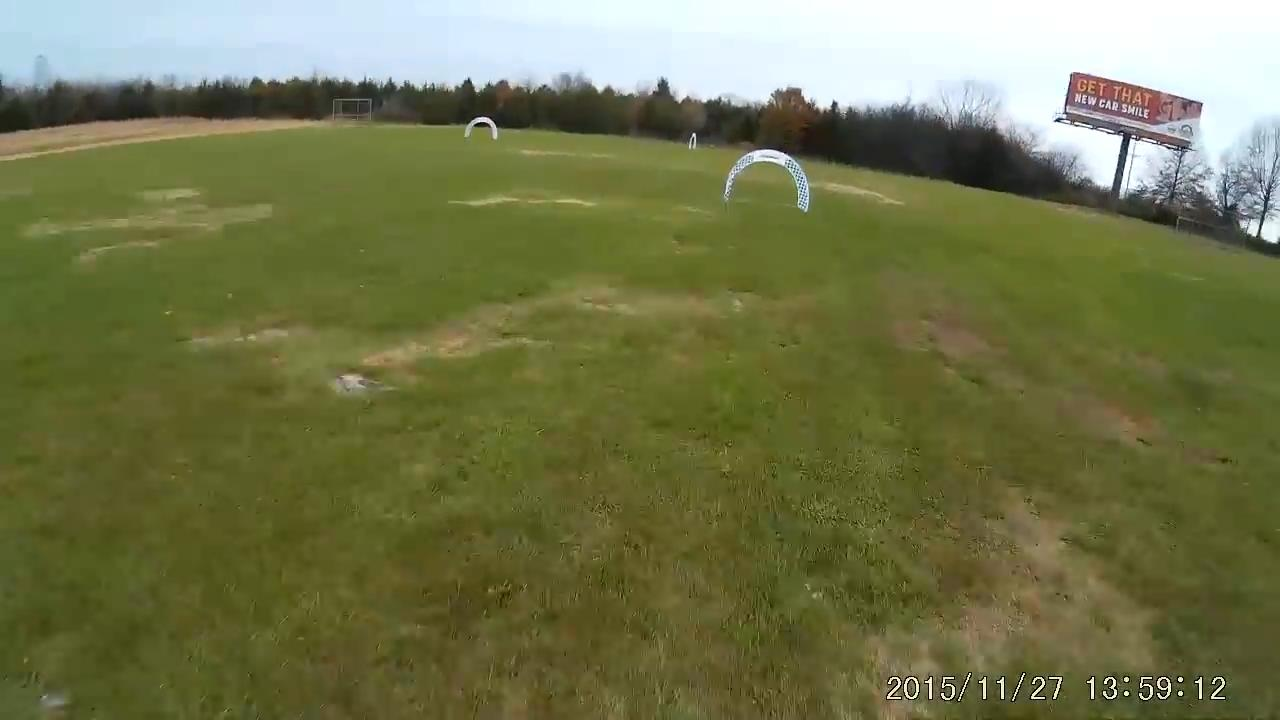gate: (720, 148, 811, 213)
